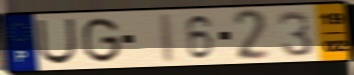2: (231, 6, 273, 65)
3: (277, 8, 315, 58)
6: (183, 13, 216, 60)
G: (82, 16, 124, 65)
I: (160, 12, 178, 65)
U: (35, 17, 78, 66)
